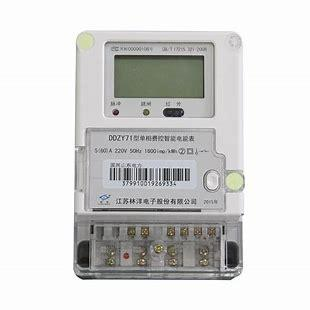digital: (76, 30, 242, 216)
